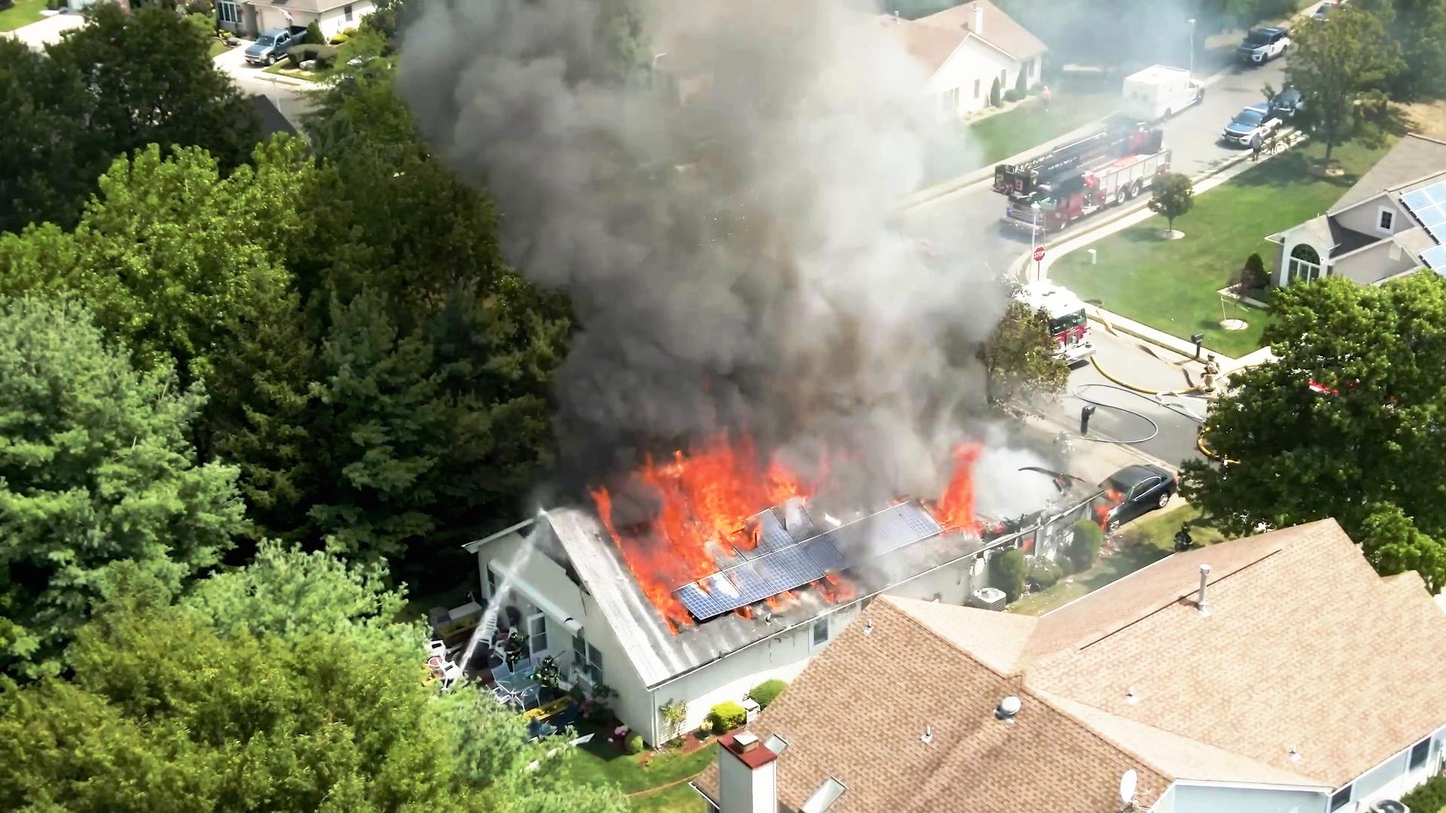fire: (600, 448, 806, 621), (942, 441, 990, 523)
smoke: (572, 116, 802, 416), (448, 0, 871, 162)
